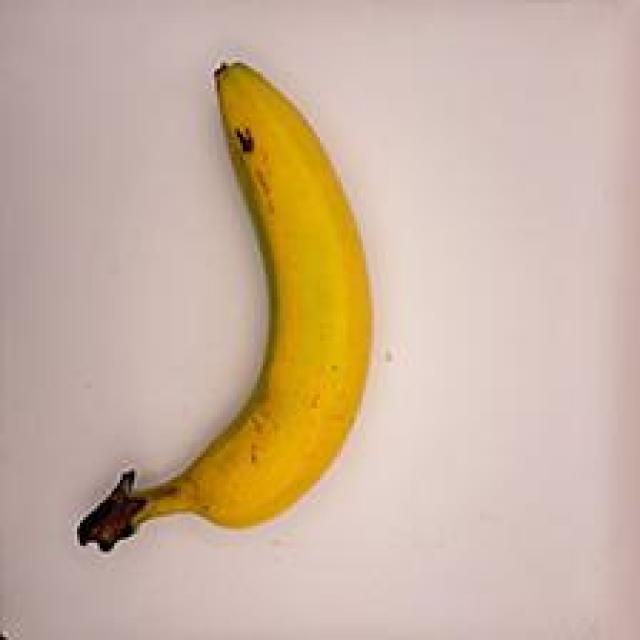ripe: (62, 50, 408, 552)
